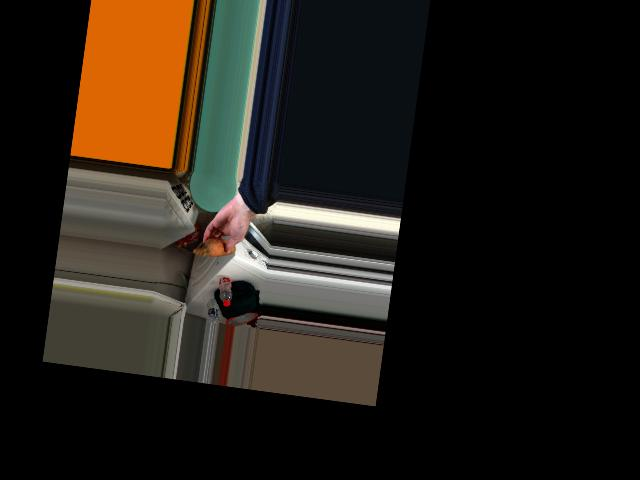sweet_potato: (200, 237, 234, 259)
